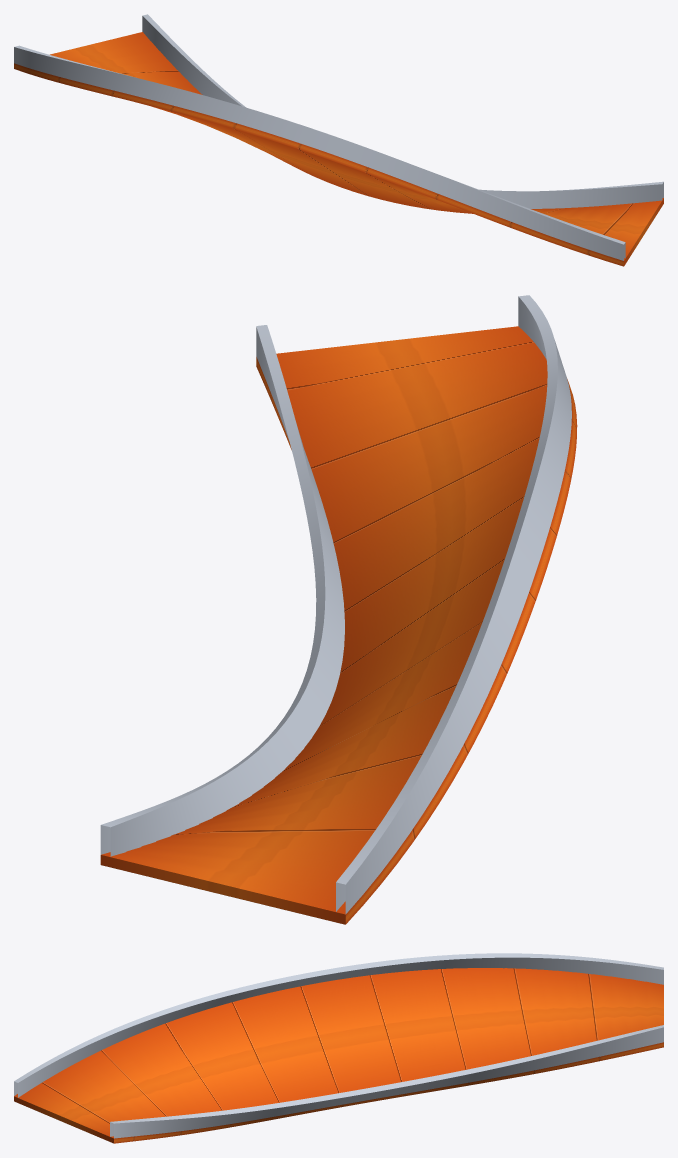
Rendered from turn-45-r18.glb.
3 views of the same model, one above another, from view 1: azimuth 30°, elevation 25°; view 2: azimuth 150°, elevation 25°; view 3: azimuth 270°, elevation 25° (orthographic). The views are drawn at different scales.
Bounding box in the file's own units: 7.83 × 2.26 × 13.79.
2 materials, 1 textured.
